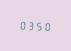five: (34, 19, 41, 31)
three: (26, 19, 33, 30)
zero: (18, 19, 25, 30), (42, 20, 49, 31)
